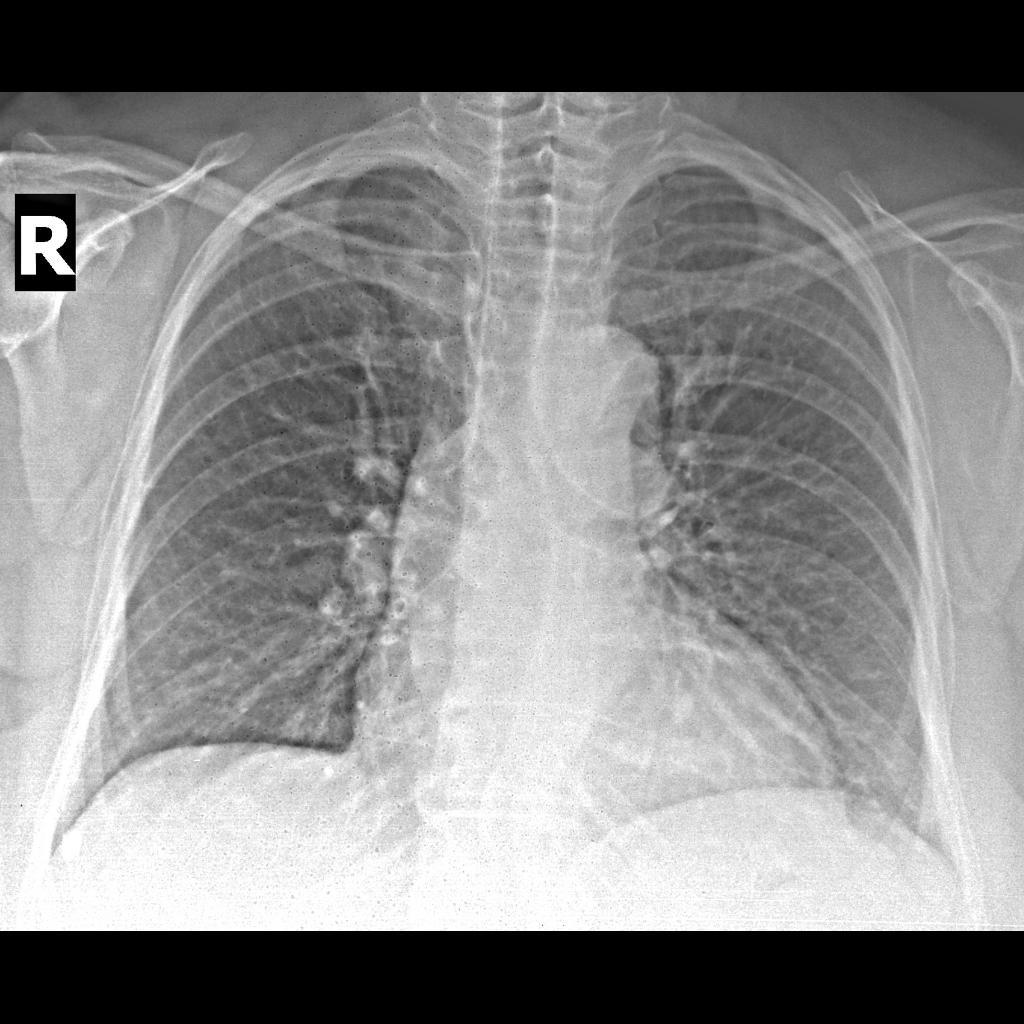Nodule: (59, 824, 90, 863)
